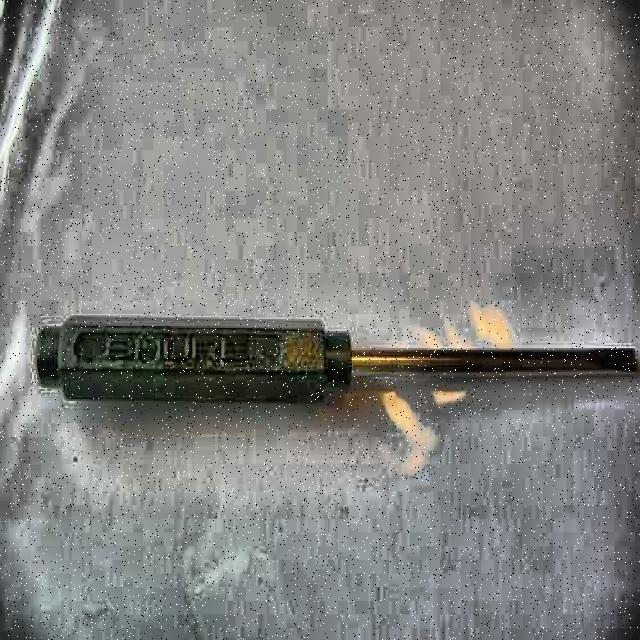screwdriver: (35, 314, 640, 399)
